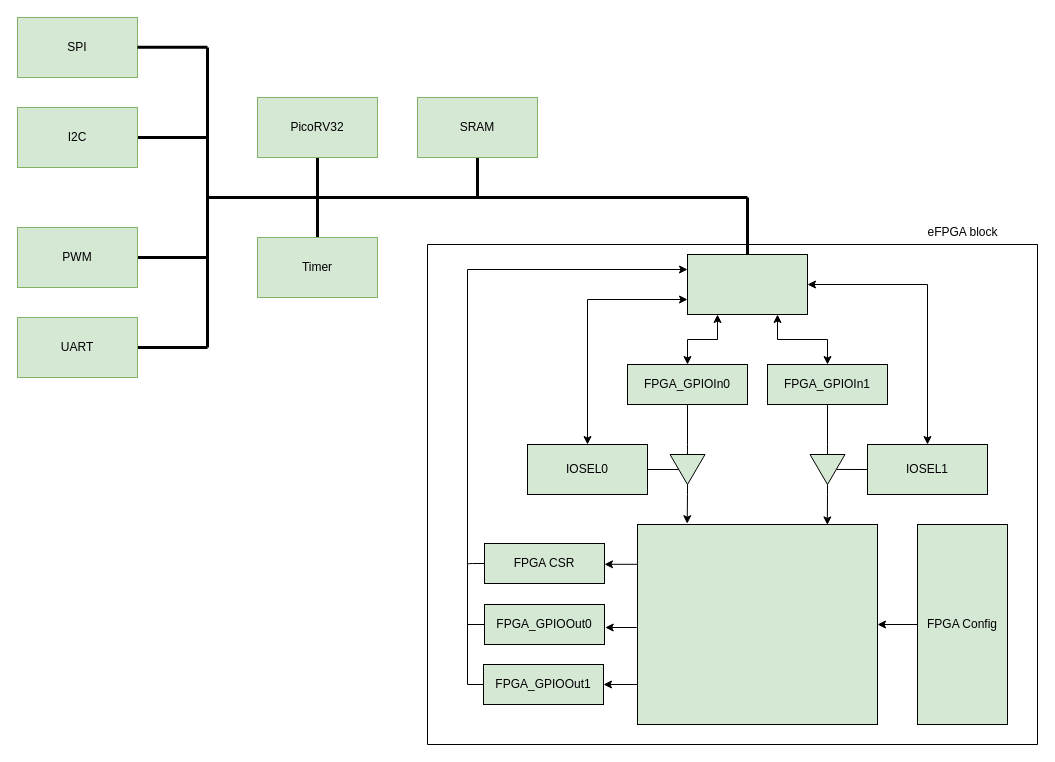
Image size: 1055x762. Some labels were removed from this diagram. Here are the shapes that lost their labels. From the top down, the box of each, then its label:
(686, 254, 808, 314): Wishbone Slave
(636, 524, 878, 724): FPGA Fabric
